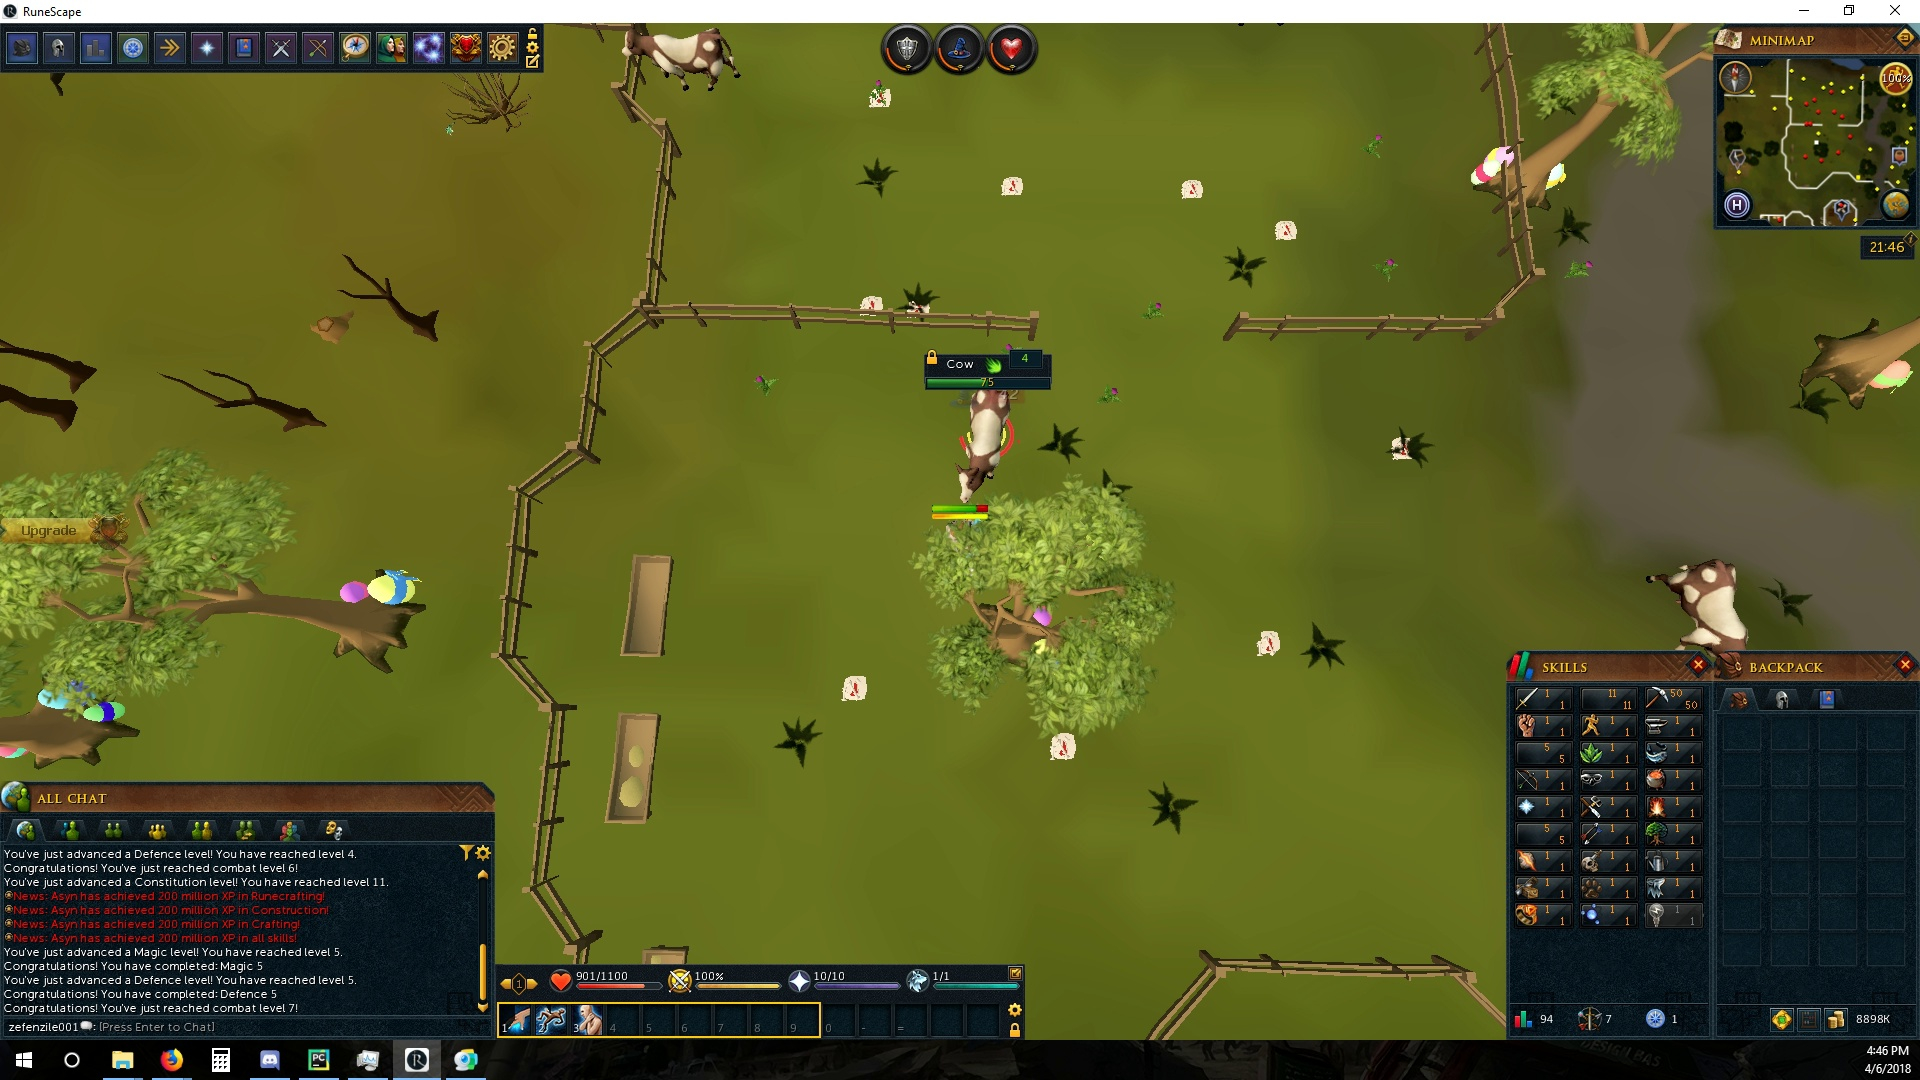cow: (1644, 554, 1755, 653), (618, 22, 749, 92), (948, 389, 1017, 508)
cow_drop: (1385, 431, 1419, 464), (1044, 735, 1079, 766), (996, 171, 1029, 203), (1253, 622, 1280, 659), (837, 670, 869, 702), (865, 86, 891, 115), (1273, 218, 1302, 243), (1179, 179, 1205, 200), (853, 294, 885, 311)
